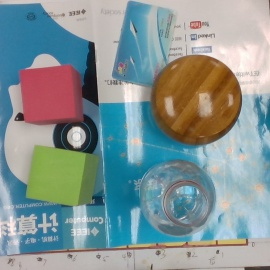bottle: (136, 159, 217, 234)
card: (112, 1, 177, 88)
chess: (153, 55, 242, 148)
